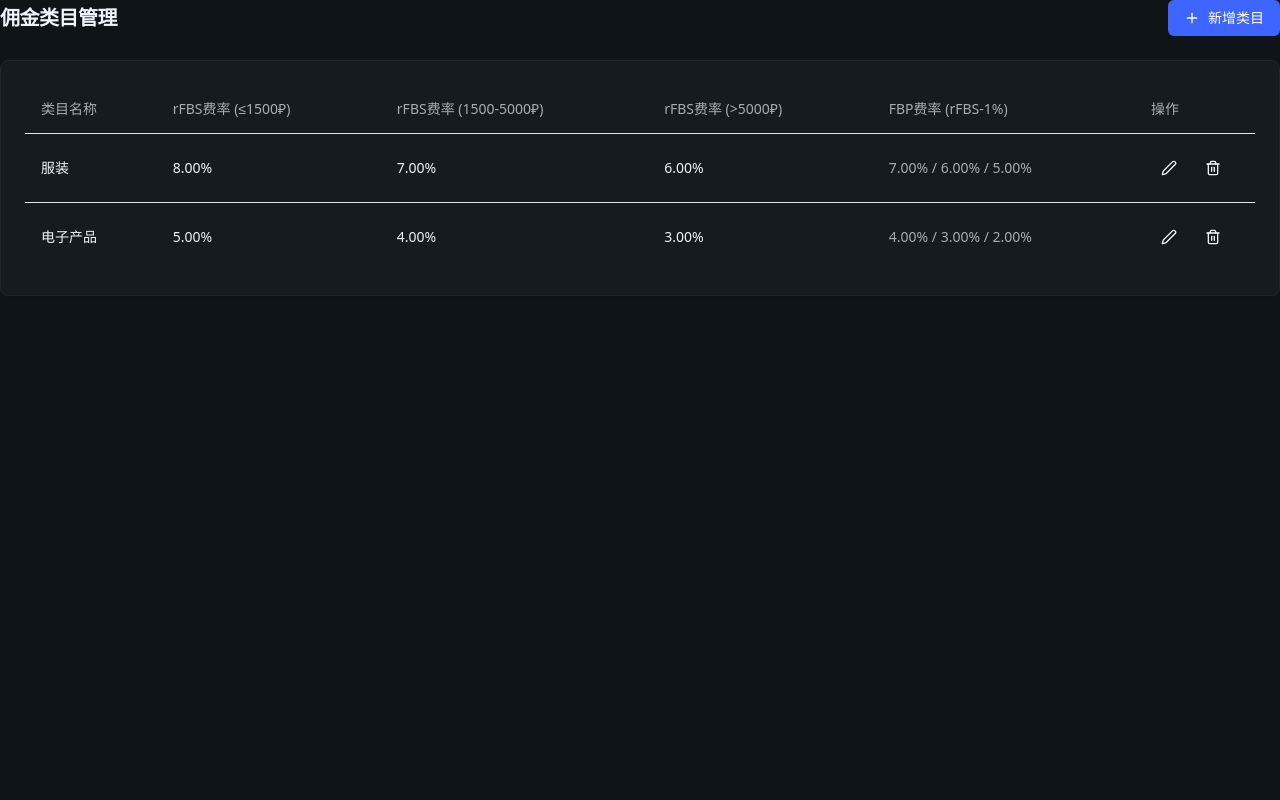
CommissionCategoriesPage › opens dialog for creating new category
Expected: the text "服装" is shown, x1=25 y1=133 x2=157 y2=202
Click "新增类目"
Click the button "新增类目". click: (1224, 18)
box: x1=1168 y1=0 x2=1279 y2=36
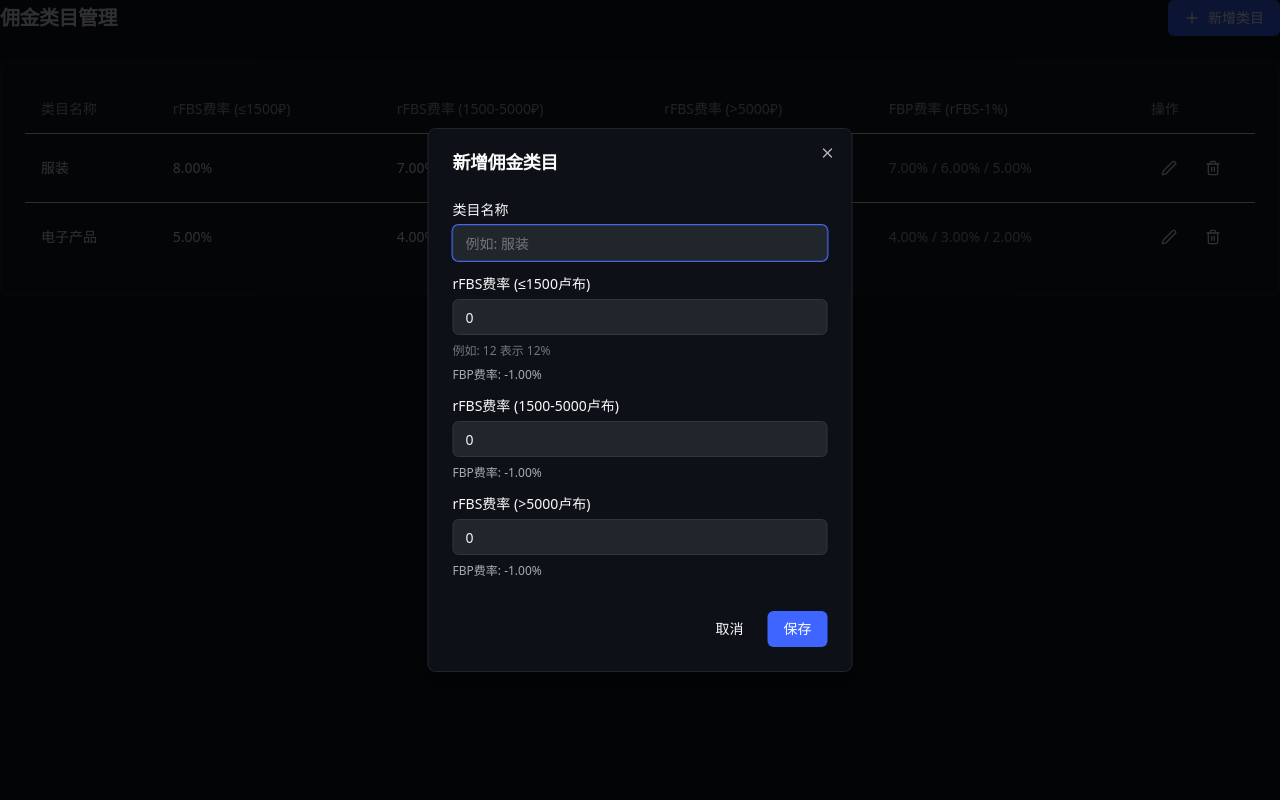
Now the heading "新增佣金类目" is shown, box x1=452 y1=150 x2=558 y2=174
